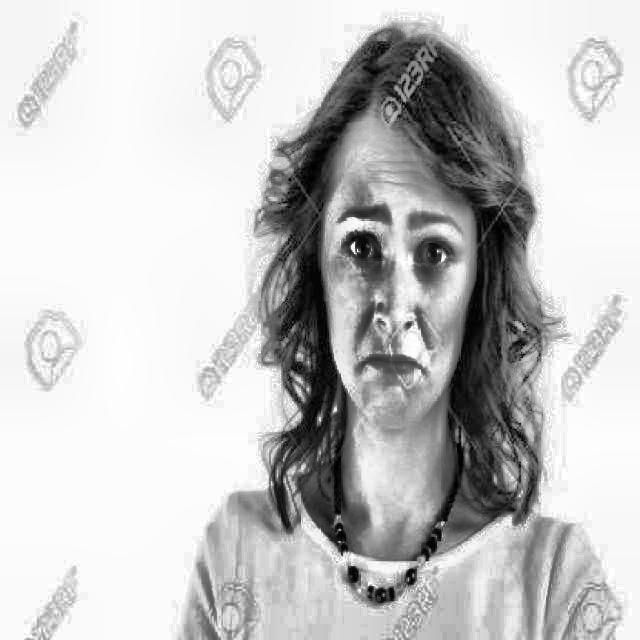sad: (296, 145, 490, 442)
